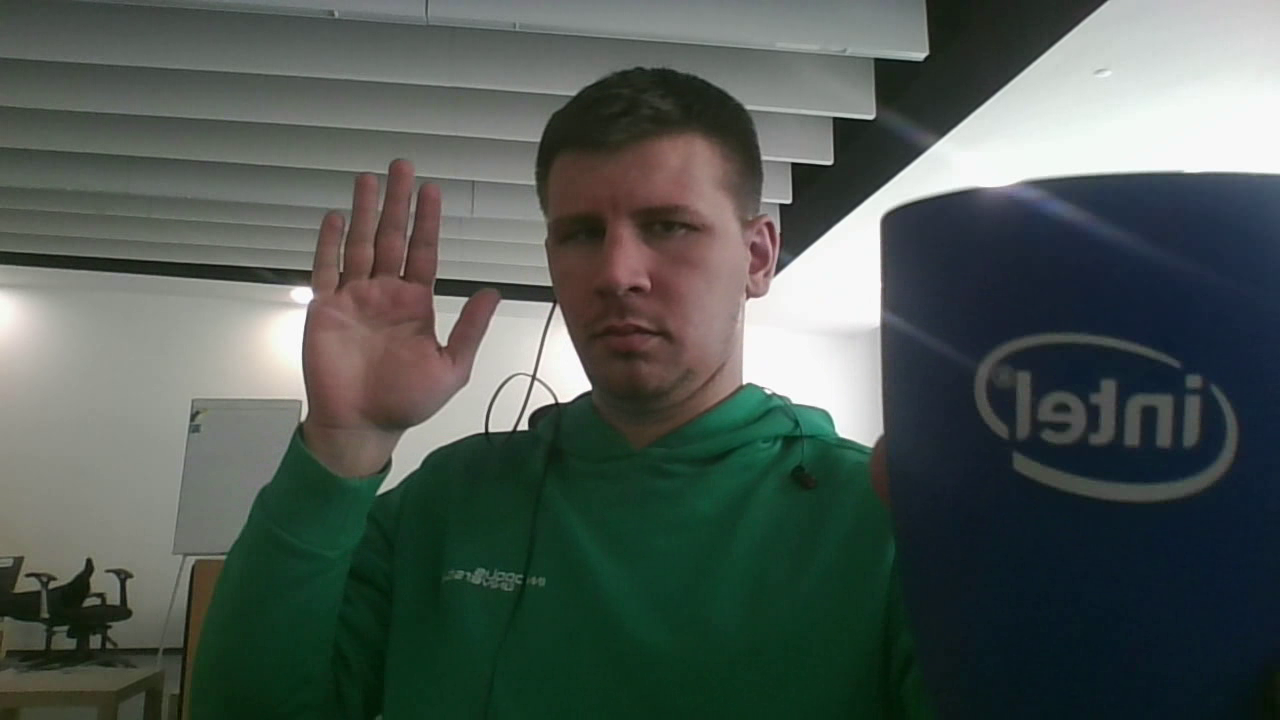cup: (879, 172, 1280, 720)
